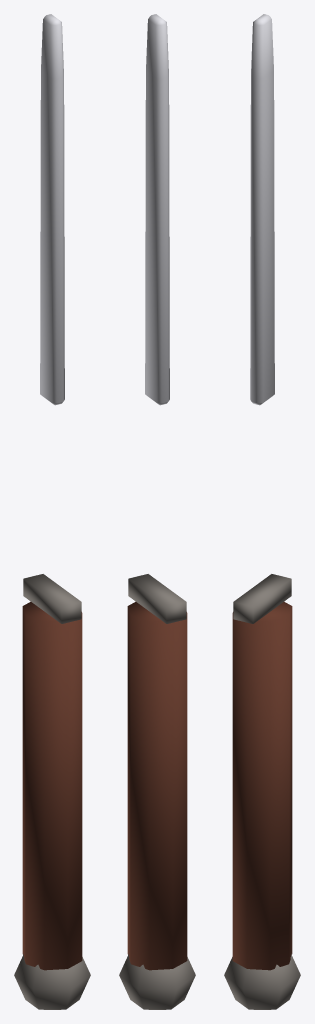
Rendered from stiletto.glb.
3 views of the same model, side by side, from view 1: azimuth 30°, elevation 25°; view 2: azimuth 210°, elevation 25°; view 3: azimuth 330°, elevation 25° (orthographic).
Parts seen in each view (by area): view 1: stiletto; view 2: stiletto; view 3: stiletto.
Part boxes in pixels (x1,y1,x2,y2): stiletto: (14,14,90,1009); stiletto: (119,14,195,1009); stiletto: (224,14,300,1009).
Size of the model in its own units: 0.0173 by 0.285 by 0.02.
3 materials, 1 textured.
